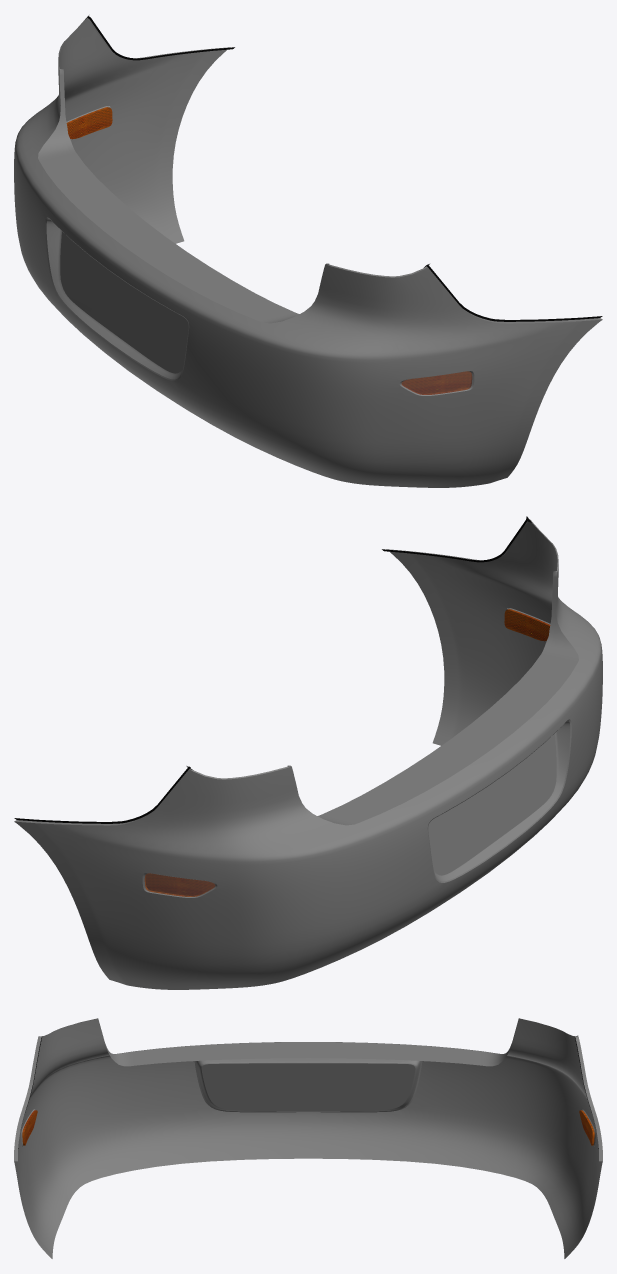
3 views of the same model, one above another, from view 1: azimuth 30°, elevation 25°; view 2: azimuth 150°, elevation 25°; view 3: azimuth 270°, elevation 25° (orthographic). The views are drawn at different scales.
Parts seen in each view (by area): view 1: D160_561G_C_D160_561G_C_3_DaS, D160_561G_C_D160_561G_C_3_DaS_E, D160_561G_C_D160_561G_C_4_N, D160_561G_C_D160_561G_C_4_DTaSI, D160_561G_C_D160_561G_C_6_N; view 2: D160_561G_C_D160_561G_C_3_DaS, D160_561G_C_D160_561G_C_3_DaS_E, D160_561G_C_D160_561G_C_6_N, D160_561G_C_5_DTaSI_D160_561G_C, D160_561G_C_D160_561G_C_4_N; view 3: D160_561G_C_D160_561G_C_3_DaS, D160_561G_C_D160_561G_C_3_DaS_E.
Part boxes in pixels (x1,y1,x2,y2): D160_561G_C_D160_561G_C_3_DaS: [14, 18, 602, 487]; D160_561G_C_D160_561G_C_3_DaS_E: [38, 18, 602, 395]; D160_561G_C_D160_561G_C_4_N: [401, 371, 472, 394]; D160_561G_C_D160_561G_C_4_DTaSI: [402, 371, 471, 394]; D160_561G_C_D160_561G_C_6_N: [66, 107, 112, 139]; D160_561G_C_D160_561G_C_3_DaS: [14, 520, 602, 989]; D160_561G_C_D160_561G_C_3_DaS_E: [14, 520, 578, 897]; D160_561G_C_D160_561G_C_6_N: [144, 873, 215, 896]; D160_561G_C_5_DTaSI_D160_561G_C: [145, 873, 214, 896]; D160_561G_C_D160_561G_C_4_N: [504, 609, 550, 641]; D160_561G_C_D160_561G_C_3_DaS: [14, 1018, 602, 1258]; D160_561G_C_D160_561G_C_3_DaS_E: [14, 1018, 602, 1161].
Size of the model in its own units: 95.23 by 71.03 by 197.
